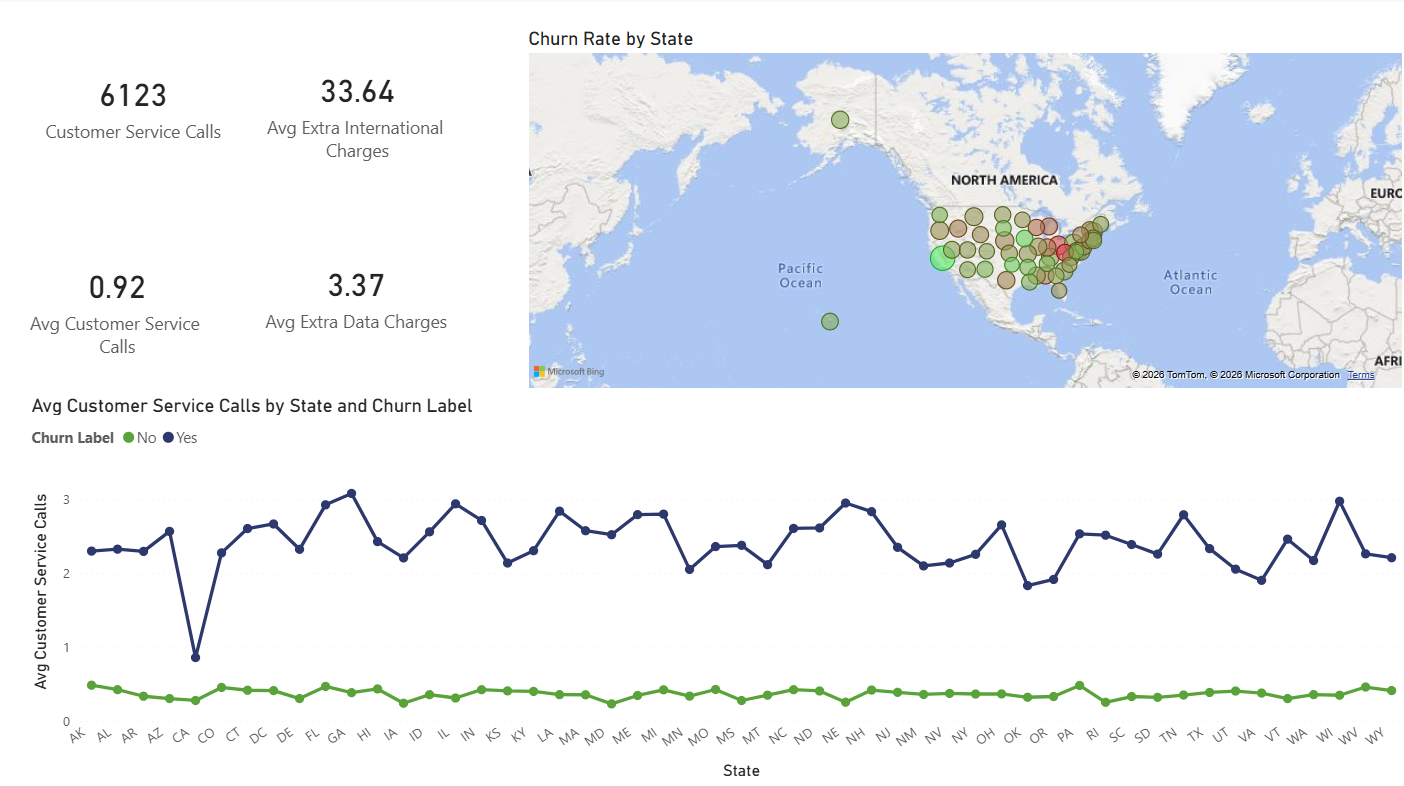

This screenshot's page, from the dashboard's own definition file:
{"tool":"powerbi","page":{"name":"Insights","canvas":[1280,720],"ordinal":4},"visuals":[{"type":"card","fields":{"Values":["Sum(Databel - Data.Customer Service Calls)"]},"box":[27.6,6.1,194.4,182.2],"z":0},{"type":"card","fields":{"Values":["Databel - Data.Avg Customer Service Calls"]},"box":[12.2,186.8,194.4,168.4],"z":1000},{"type":"card","fields":{"Values":["Databel - Data.Avg Extra International Charges"]},"box":[222,0,211.3,186.8],"z":2000},{"type":"card","fields":{"Values":["Databel - Data.Avg Extra Data Charges"]},"box":[209.8,165.4,234.3,209.8],"z":3000},{"type":"lineChart","fields":{"Category":["Databel - Data.State"],"Y":["Databel - Data.Avg Customer Service Calls"],"Series":["Databel - Data.Churn Label"]},"box":[27.2,359.9,1252.8,355],"z":4000},{"type":"map","fields":{"Category":["Databel - Data.State"],"Size":["Databel - Data.Churn Rate"]},"box":[477.7,27.6,802.3,332.2],"z":5000}]}

Visuals, with their boxes in screenshot pixels (x1, y1, x2, y2), scaled from the page's 1280x720 canvas onto the 1404x786 screenshot:
card - Sum(Databel - Data.Customer Service Calls): {"left": 30, "top": 7, "right": 244, "bottom": 206}
card - Databel - Data.Avg Customer Service Calls: {"left": 13, "top": 204, "right": 227, "bottom": 388}
card - Databel - Data.Avg Extra International Charges: {"left": 244, "top": 0, "right": 475, "bottom": 204}
card - Databel - Data.Avg Extra Data Charges: {"left": 230, "top": 181, "right": 487, "bottom": 410}
lineChart - Databel - Data.State x Databel - Data.Avg Customer Service Calls: {"left": 30, "top": 393, "right": 1403, "bottom": 780}
map - Databel - Data.State x Databel - Data.Churn Rate: {"left": 524, "top": 30, "right": 1403, "bottom": 393}
